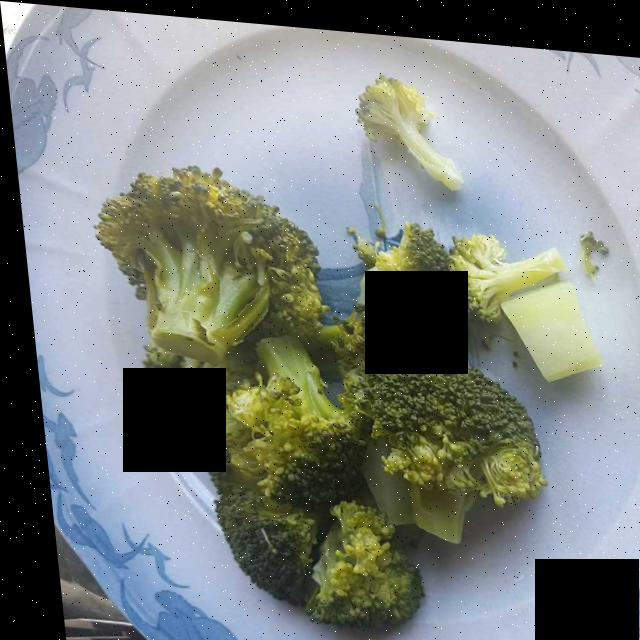broccoli: (103, 106, 580, 623)
